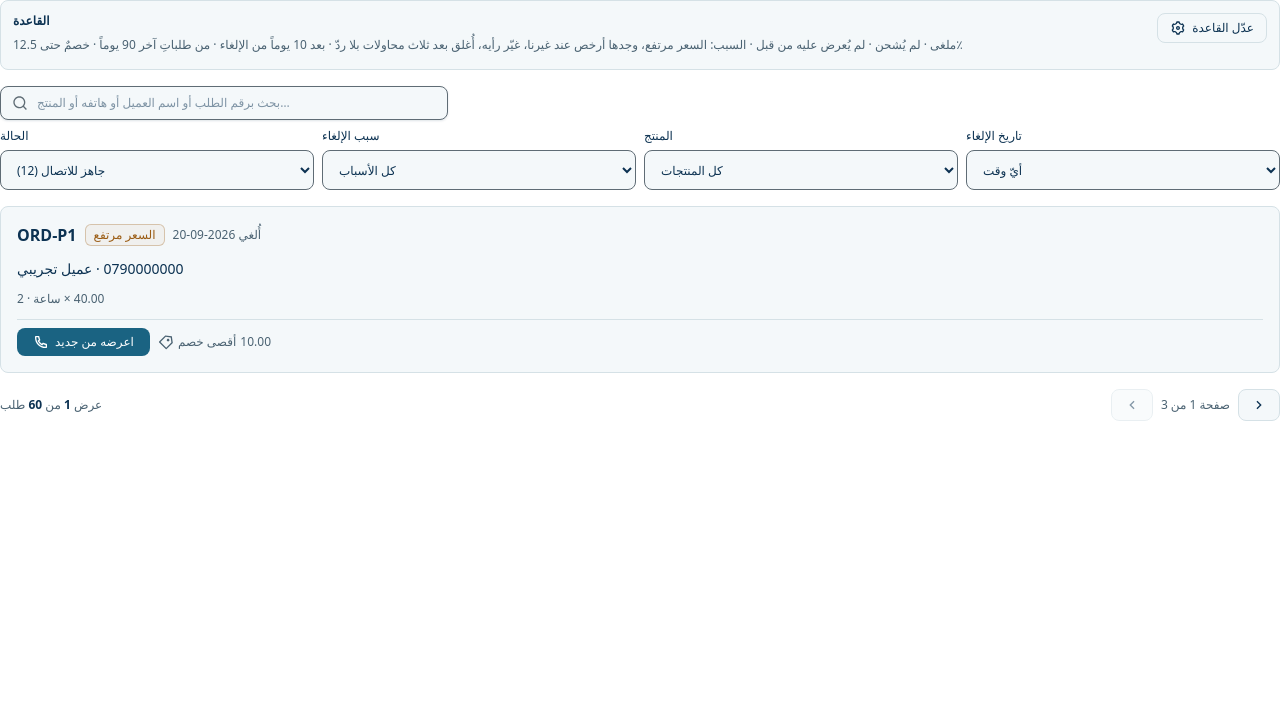
Test: the rule, printed on the screen › and pressing it opens the form on the stored rule
Expected: the dropdown labelled "الحالة" is shown, [0,150,314,190]
Expected: the text "قاعدة استرجاع الملغى" is not shown
Click the button "عدّل القاعدة": (1212, 28) [1157,13,1267,43]
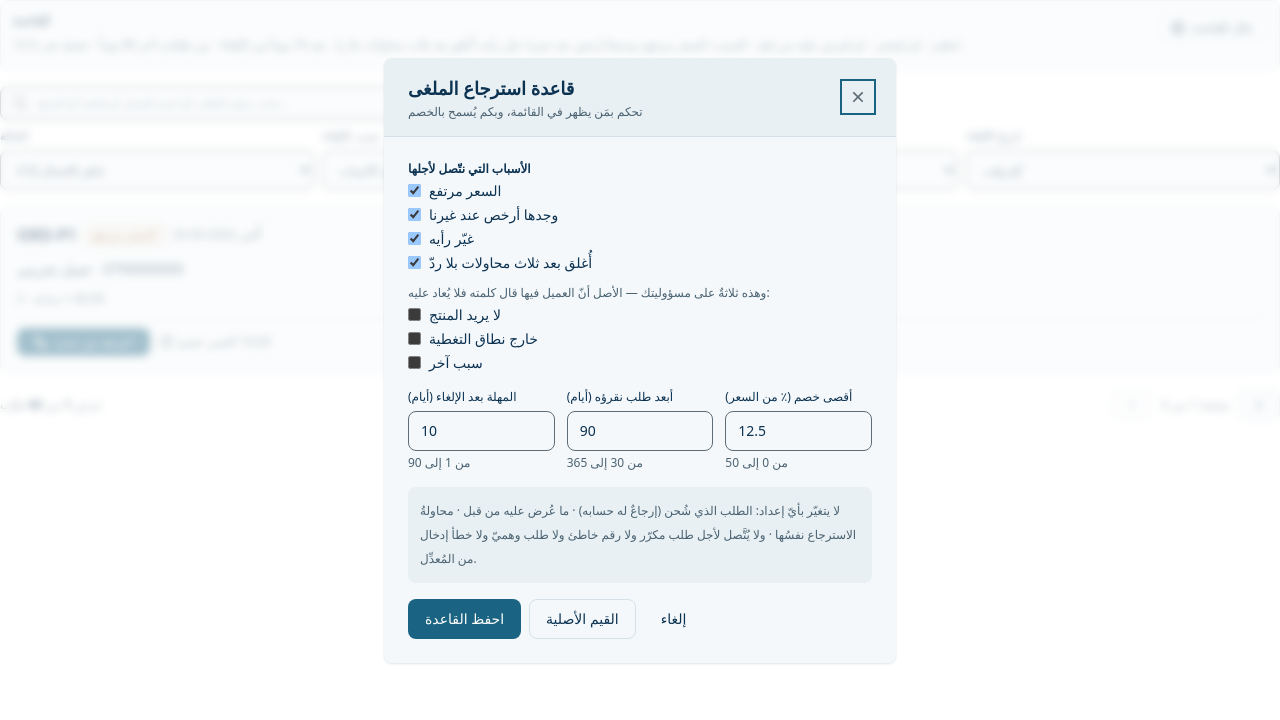
Expected: the heading "قاعدة استرجاع الملغى" is shown, [408,76,574,100]
Expected: the field labelled "المهلة بعد الإلغاء (أيام)" holds "10", [408,410,555,450]
Expected: the field labelled "أقصى خصم (٪ من السعر)" holds "12.5", [725,410,872,450]
